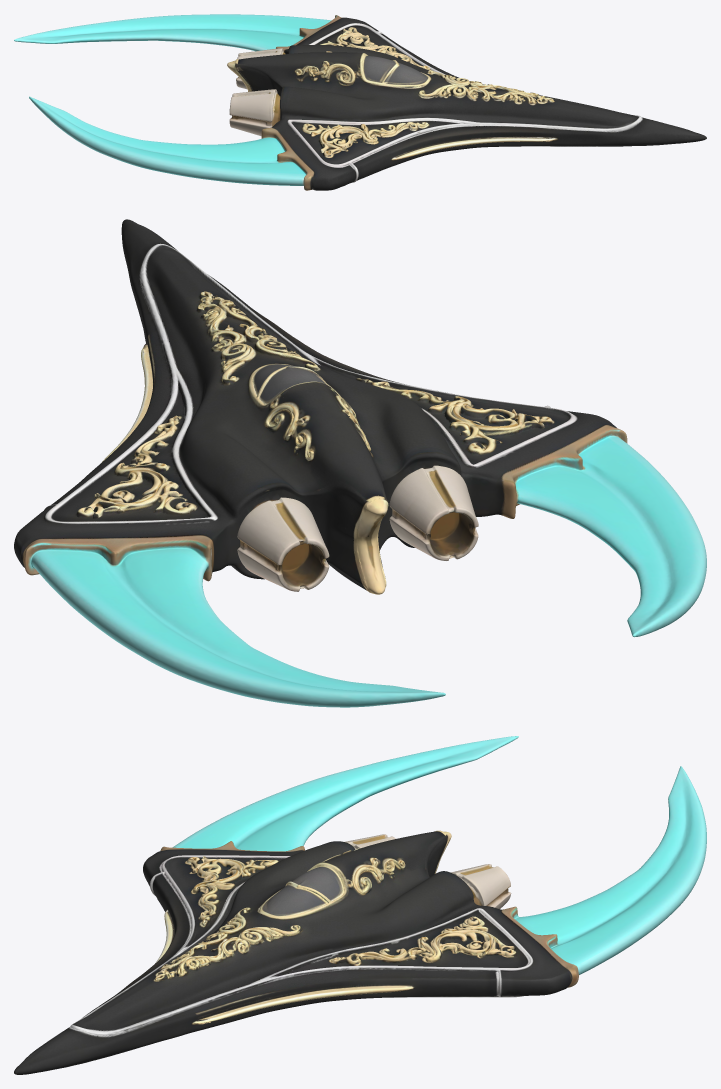
Rendered from hero_ship.glb.
3 views of the same model, one above another, from view 1: azimuth 30°, elevation 25°; view 2: azimuth 150°, elevation 25°; view 3: azimuth 270°, elevation 25° (orthographic). The views are drawn at different scales.
Parts seen in each view (by area): view 1: tripo_node_e2144d04-ca26-4f3f-9770-72aff8737004; view 2: tripo_node_e2144d04-ca26-4f3f-9770-72aff8737004; view 3: tripo_node_e2144d04-ca26-4f3f-9770-72aff8737004.
Part boxes in pixels (x1=…): tripo_node_e2144d04-ca26-4f3f-9770-72aff8737004: x1=14, y1=14, x2=706, y2=190; tripo_node_e2144d04-ca26-4f3f-9770-72aff8737004: x1=14, y1=219, x2=706, y2=707; tripo_node_e2144d04-ca26-4f3f-9770-72aff8737004: x1=14, y1=736, x2=706, y2=1074.
Size of the model in its own units: 0.9797 by 0.145 by 0.9194.
1 material, 1 textured.
